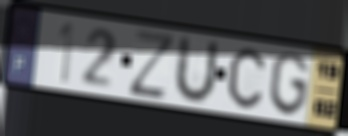1: (57, 21, 75, 85)
2: (80, 27, 119, 90)
C: (226, 46, 267, 111)
G: (267, 51, 311, 119)
U: (171, 33, 221, 106)
Z: (127, 28, 178, 102)
